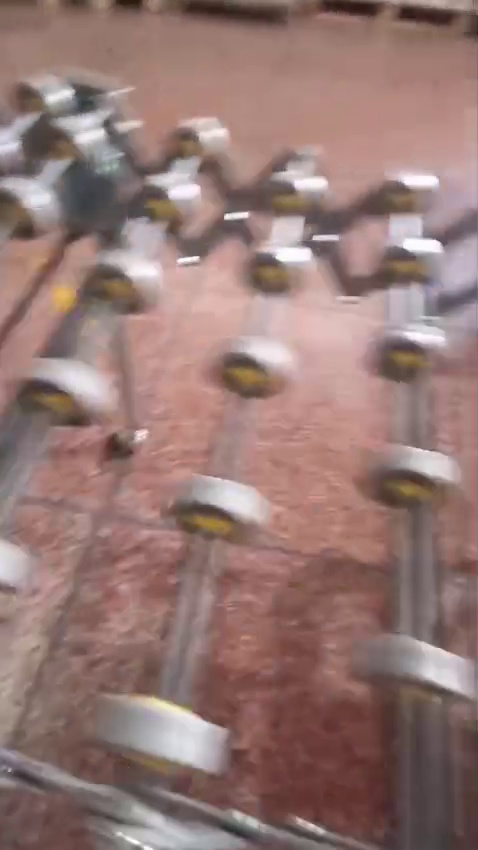savon: (48, 268, 142, 317), (10, 389, 86, 425), (177, 506, 246, 543), (374, 10, 454, 40), (383, 478, 454, 509), (222, 362, 280, 397), (127, 688, 193, 713), (30, 127, 80, 160), (22, 628, 52, 678), (124, 752, 185, 776), (380, 351, 432, 379), (247, 262, 292, 293), (0, 196, 34, 237), (144, 199, 182, 233), (384, 258, 426, 285), (169, 136, 216, 160), (269, 189, 314, 214), (396, 687, 457, 705), (66, 0, 142, 12), (382, 190, 417, 212), (24, 250, 50, 272), (33, 46, 54, 70), (23, 90, 44, 113), (8, 723, 24, 752), (0, 0, 36, 12), (0, 595, 14, 623), (154, 0, 186, 11), (224, 0, 242, 14), (46, 0, 58, 12), (465, 721, 478, 732)
